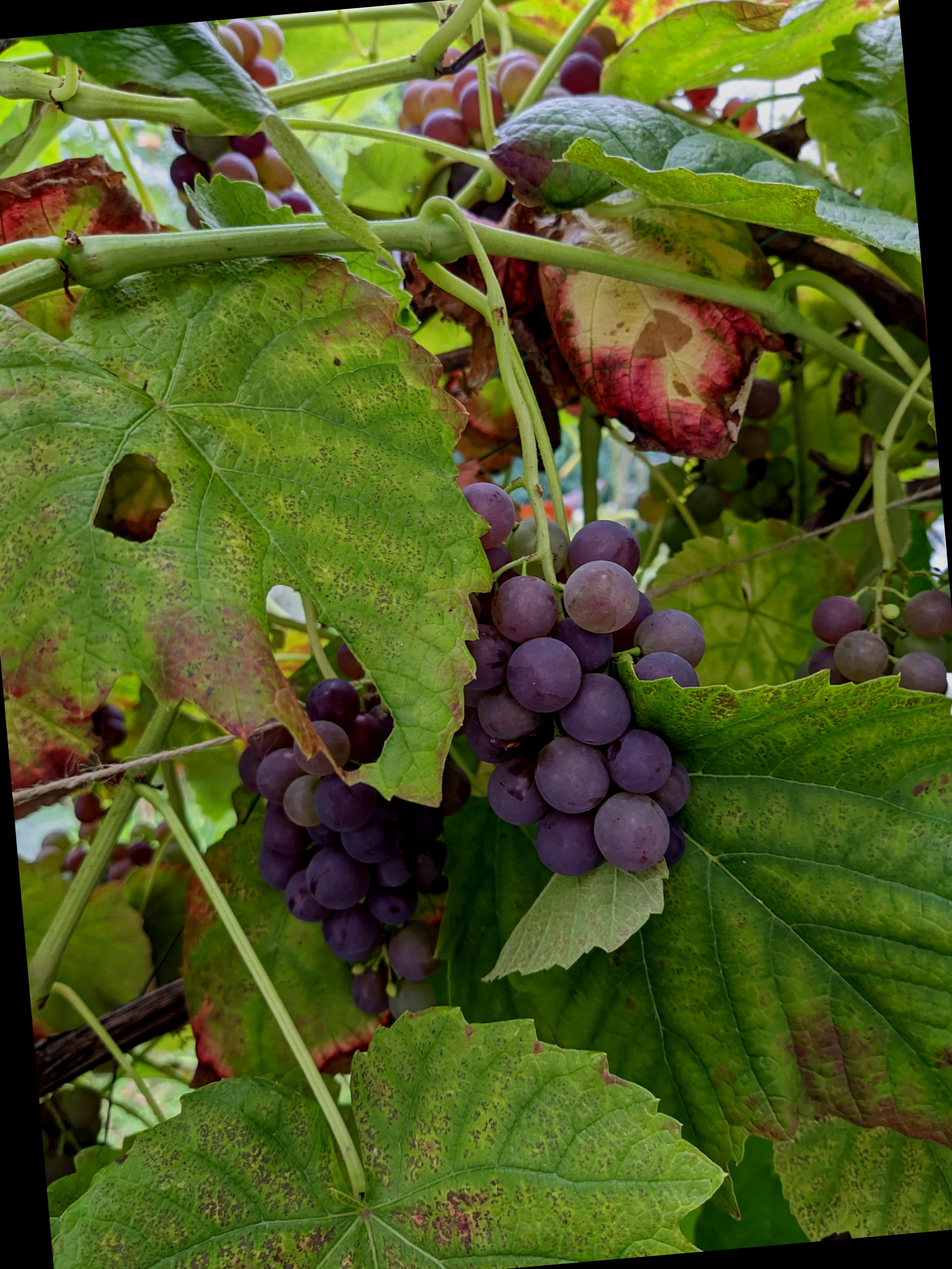Grape Unripe: (367, 505, 678, 940), (174, 707, 441, 1078), (90, 55, 267, 281), (337, 61, 576, 213), (746, 615, 908, 757), (0, 745, 122, 921)
